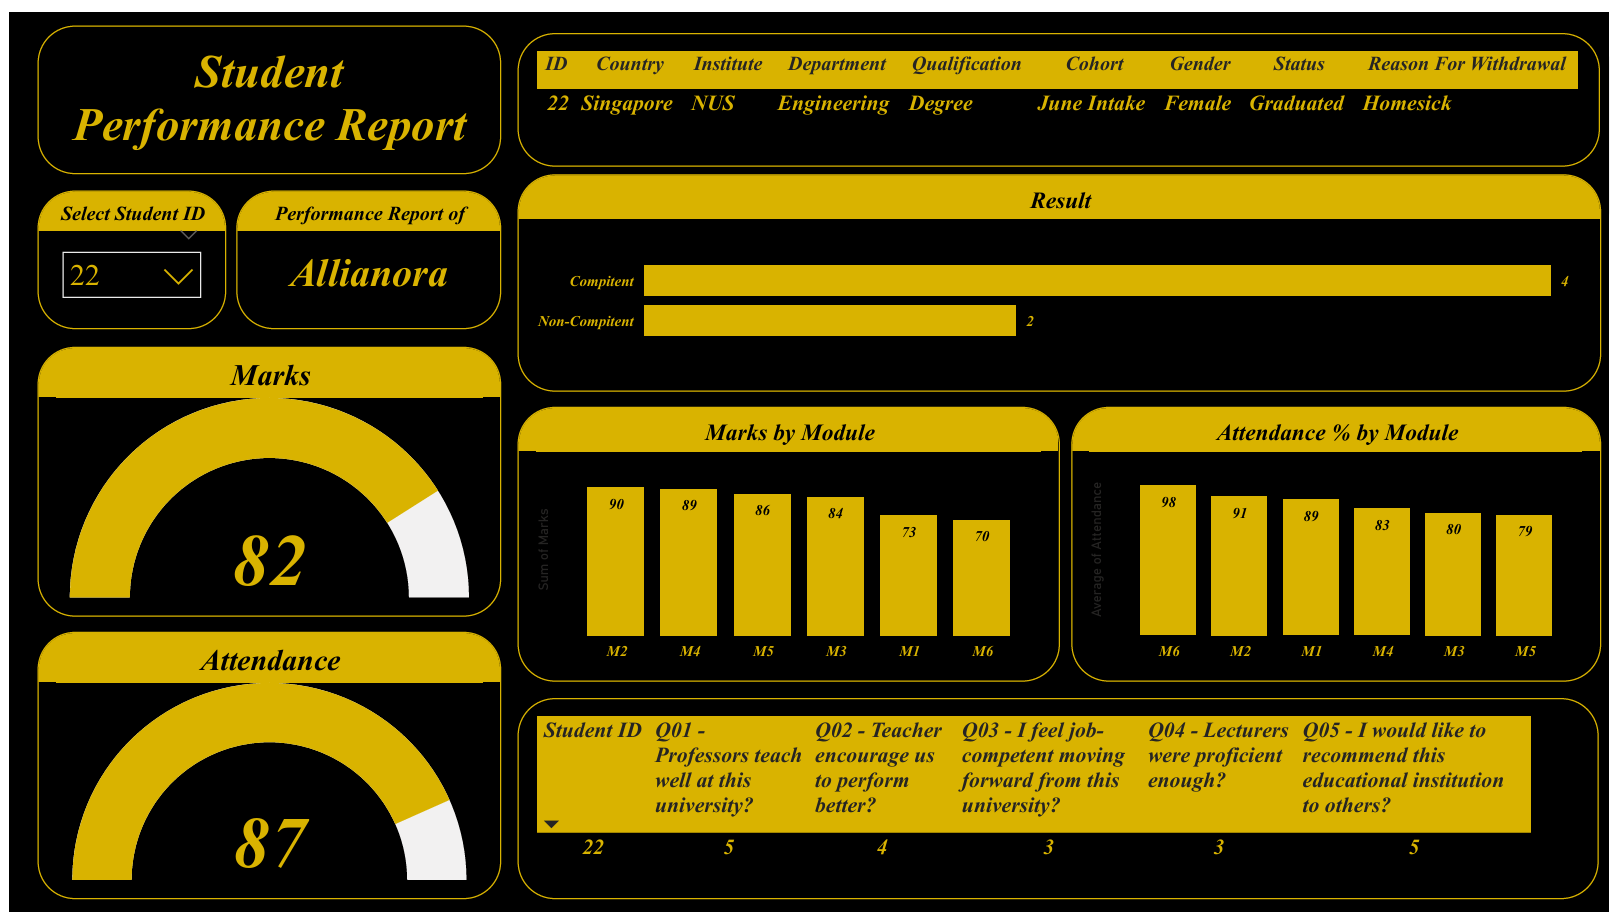

The dashboard page shown, as its layout file describes it:
{"tool":"powerbi","page":{"name":"Student Report","canvas":[1280,720],"ordinal":0},"visuals":[{"type":"textbox","box":[22.1,10.5,370.9,118.6],"z":0},{"type":"slicer","title":"Select Student ID","fields":{"Values":["Student.Student ID"]},"box":[22.1,141.9,151.2,111.6],"z":1000},{"type":"card","title":"Performance Report of","fields":{"Values":["Min(Student.Student Name)"]},"box":[181.4,141.9,211.6,111.6],"z":2000},{"type":"gauge","title":"Marks","fields":{"Y":["Avg(Attendance.Marks)"]},"box":[22.1,267.4,370.9,215.1],"z":3000},{"type":"gauge","title":"Attendance","fields":{"Y":["Avg(Attendance.Attendance)"]},"box":[22.1,495.4,370.9,214],"z":4000},{"type":"tableEx","title":"Marks","fields":{"Values":["Student.Student ID","SOC.Country","SOC.Institute","SOC.Department","SOC.Qualification","Cohort.Cohort","Student.Gender","Student.Status","Student.Reason For Withdrawal"]},"box":[405.8,16.3,866.3,107],"z":5000},{"type":"barChart","title":"Result","fields":{"Category":["Attendance.Result"],"Y":["Sum(Attendance.Marks)"]},"box":[406.2,128.8,866.2,173.8],"z":6000},{"type":"columnChart","title":"Marks by Module","fields":{"Category":["Attendance.Module ID"],"Y":["Sum(Attendance.Marks)"]},"box":[406.2,315,433.8,220],"z":7000},{"type":"columnChart","title":"Attendance % by Module","fields":{"Category":["Attendance.Module ID"],"Y":["Avg(Attendance.Attendance)"]},"box":[848.8,315,423.8,220],"z":8000},{"type":"tableEx","fields":{"Values":["Sum(Feedback.SID)","Sum(Feedback.Q01 - Professors teach well at this university?)","Sum(Feedback.Q02 - Teacher encourage us to perform better?)","Sum(Feedback.Q03 - I feel job-competent moving forward from this university?)","Sum(Feedback.Q04 - Lecturers were proficient enough?)","Sum(Feedback.Q05 - I would like to recommend this educational institution to others?)"]},"box":[406.2,547.5,865,161.2],"z":9000}]}

Visuals, with their boxes in screenshot pixels (x1, y1, x2, y2), scaled from the page's 1280x720 canvas onto the 1615x924 screenshot:
textbox: <bbox>28, 13, 496, 166</bbox>
"Select Student ID" slicer: <bbox>28, 182, 219, 325</bbox>
"Performance Report of" card: <bbox>229, 182, 496, 325</bbox>
"Marks" gauge: <bbox>28, 343, 496, 619</bbox>
"Attendance" gauge: <bbox>28, 636, 496, 910</bbox>
"Marks" tableEx: <bbox>512, 21, 1605, 158</bbox>
"Result" barChart: <bbox>513, 165, 1605, 388</bbox>
"Marks by Module" columnChart: <bbox>513, 404, 1060, 687</bbox>
"Attendance % by Module" columnChart: <bbox>1071, 404, 1606, 687</bbox>
tableEx - Sum(Feedback.SID) x Sum(Feedback.Q01 - Professors teach well at this university?): <bbox>513, 703, 1604, 909</bbox>
